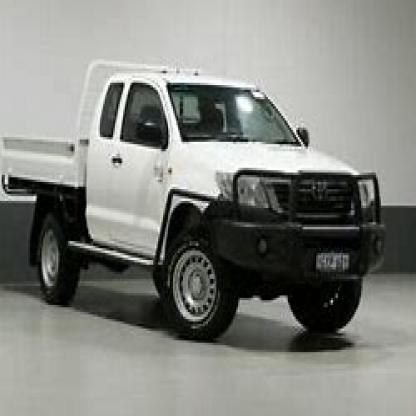light_vehicle: (2, 45, 396, 354)
